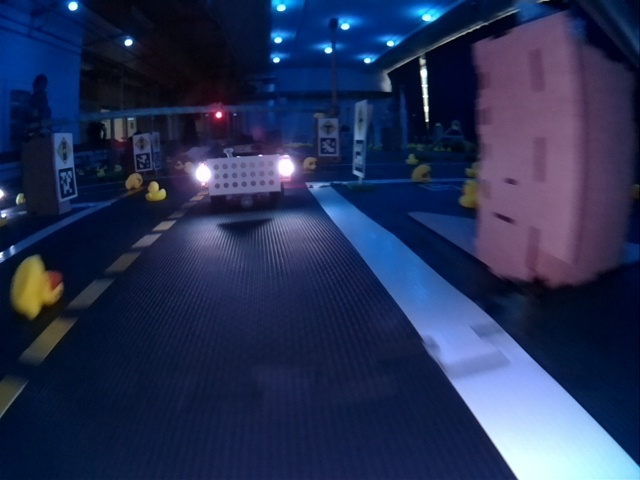Duckie: (13, 256, 64, 317), (460, 182, 479, 207), (144, 182, 167, 201), (124, 174, 142, 188), (412, 166, 430, 179), (303, 156, 315, 169), (16, 194, 24, 204), (186, 162, 194, 171), (406, 154, 414, 162), (175, 161, 183, 167)
Intersection sign: (318, 120, 336, 135)
QR code: (58, 167, 76, 200), (354, 139, 364, 172), (320, 138, 337, 155), (135, 156, 149, 170), (154, 154, 162, 167)
Signal sign: (56, 136, 73, 162), (134, 134, 149, 151)
